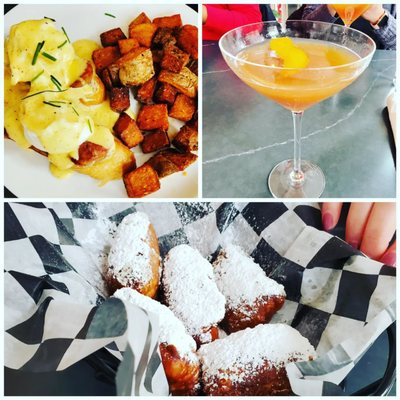curry: (202, 29, 400, 197), (158, 210, 320, 393)
sandwich: (218, 19, 375, 196)
